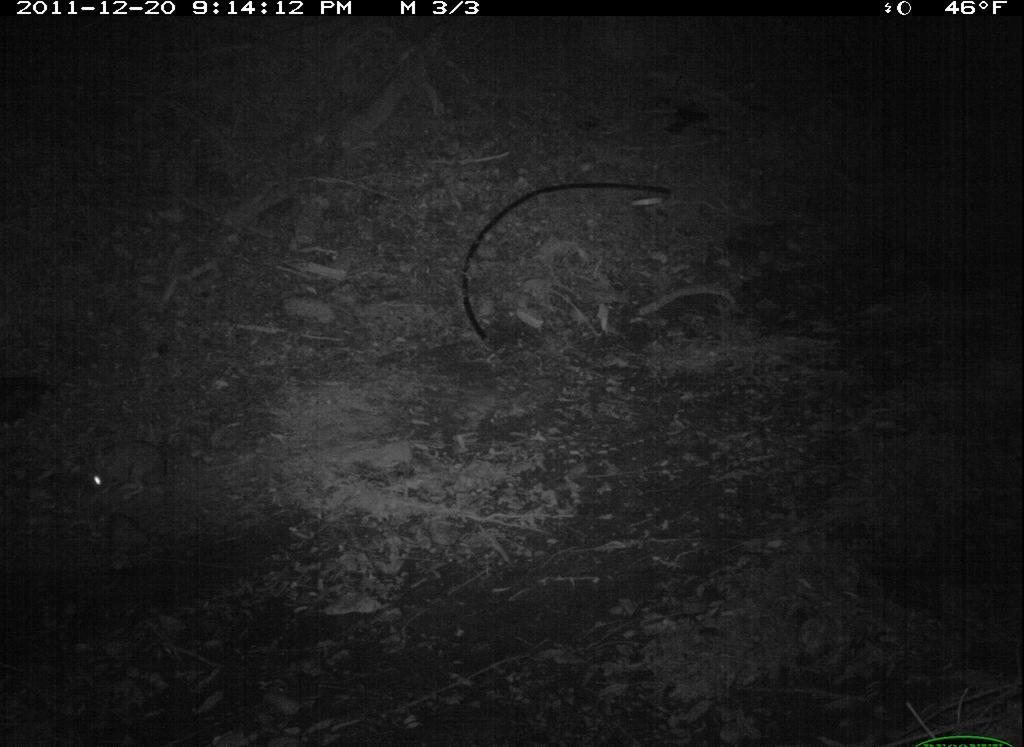rabbit: (65, 429, 176, 505)
